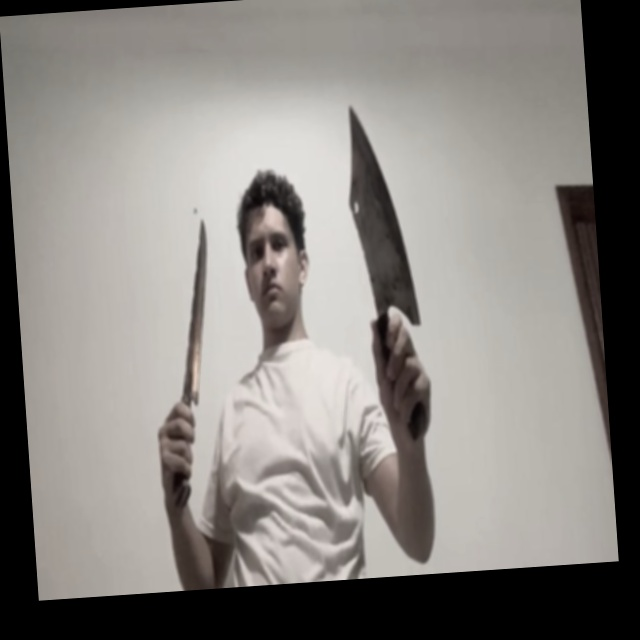Sharp-Object: (341, 101, 420, 327), (170, 219, 217, 403)
